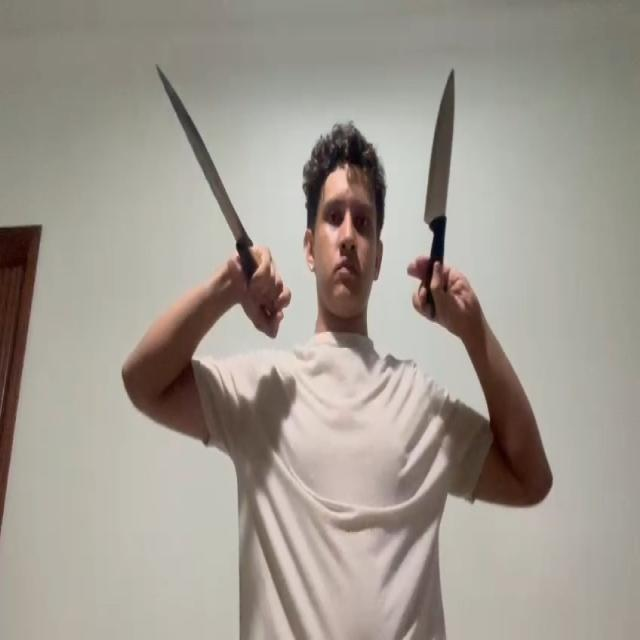knife: (156, 65, 252, 245), (424, 70, 456, 224)
